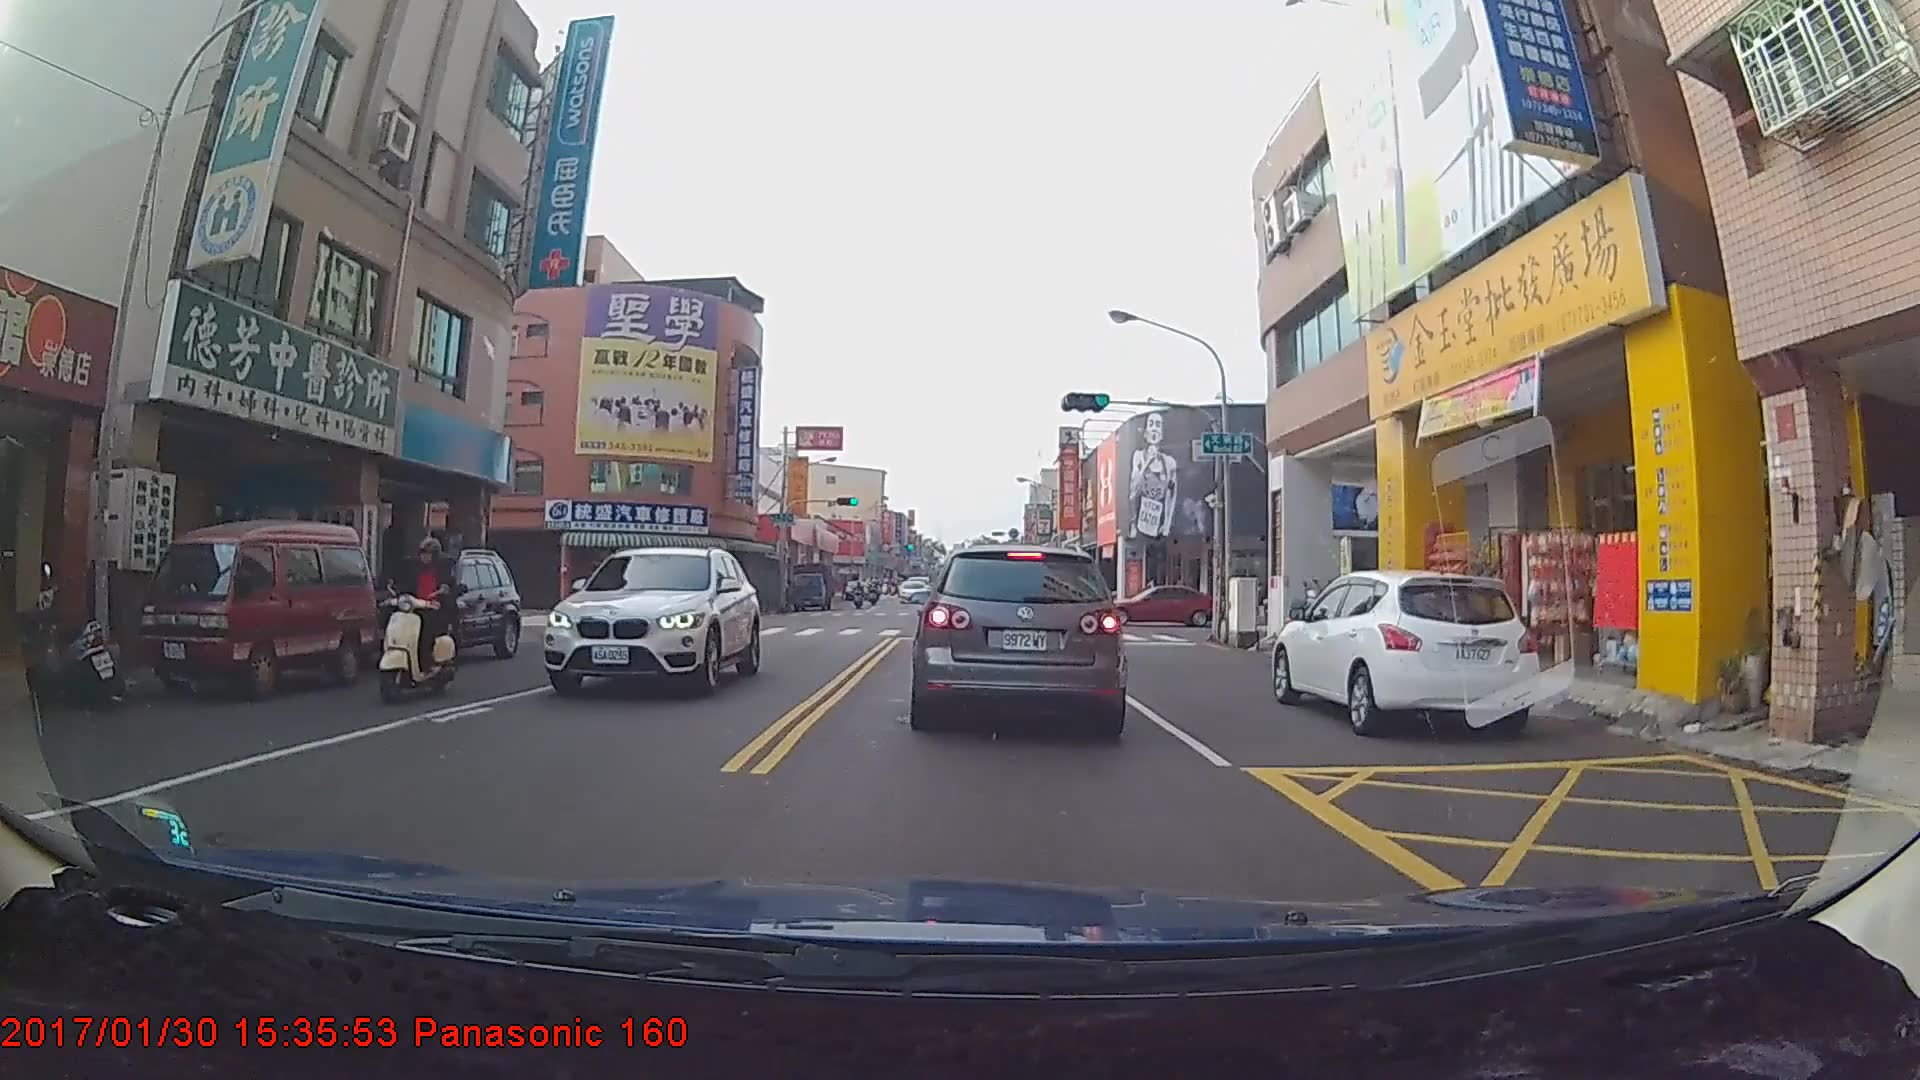rider: (379, 539, 463, 710), (849, 576, 869, 611), (847, 576, 867, 605)
vehicle: (1270, 569, 1539, 740), (910, 540, 1123, 736), (148, 521, 380, 696), (539, 547, 764, 697), (339, 549, 520, 671), (1101, 582, 1215, 626), (784, 559, 836, 609), (898, 579, 929, 603)
